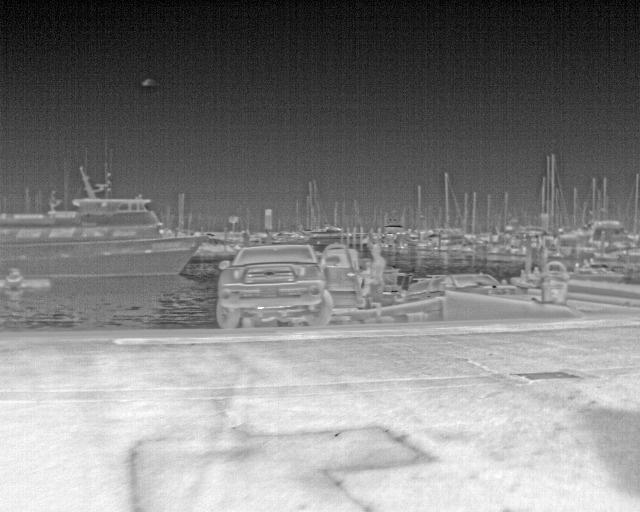bicycle: (213, 242, 360, 329)
empty: (363, 242, 385, 309)
